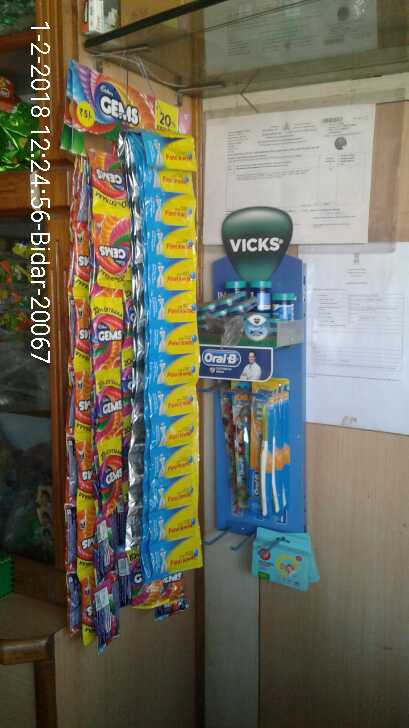pharmacy: (194, 256, 294, 349), (250, 380, 289, 527)
